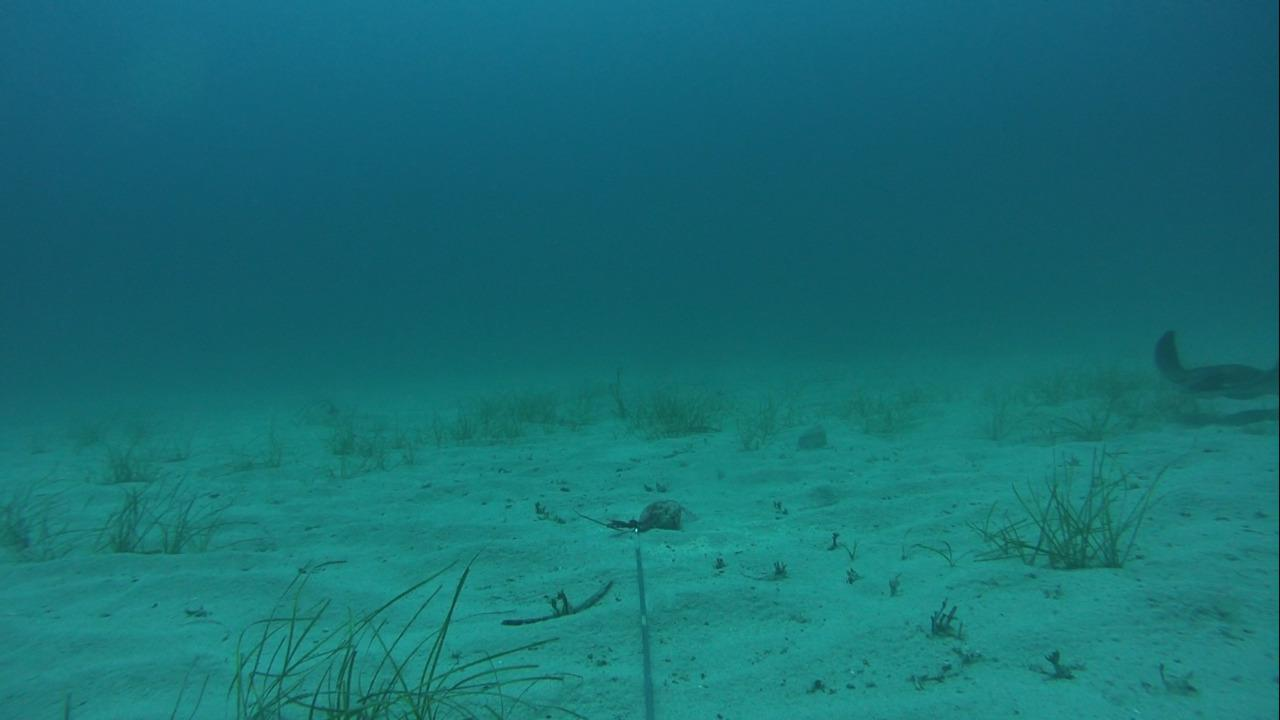myliobatis: (1143, 323, 1279, 402)
raor: (779, 419, 838, 456)
